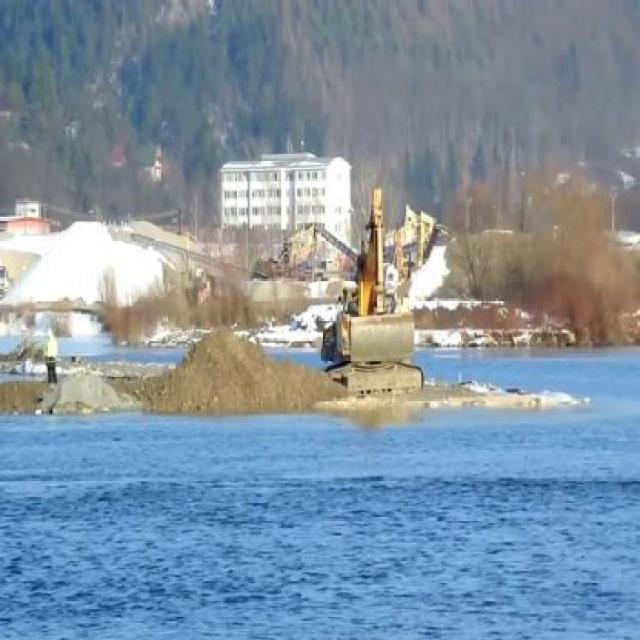Excavator: (318, 188, 424, 392)
